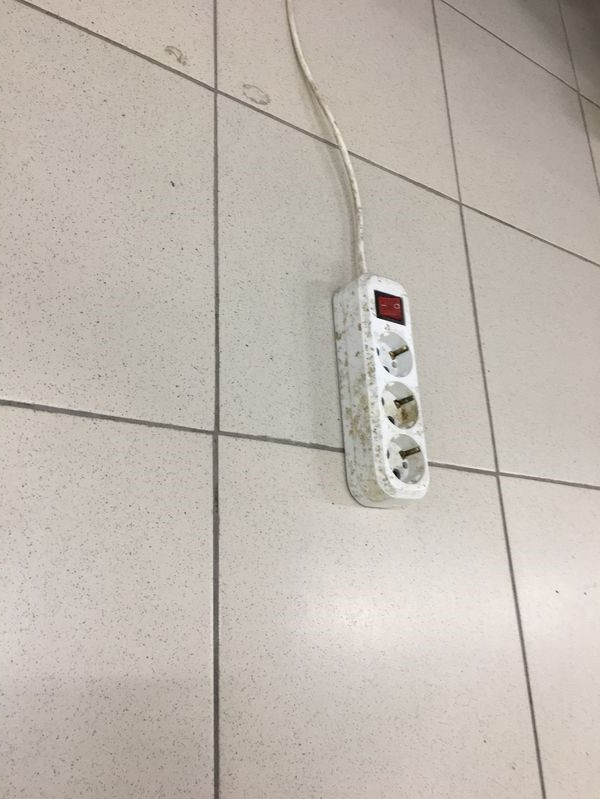socket: (317, 264, 446, 514)
